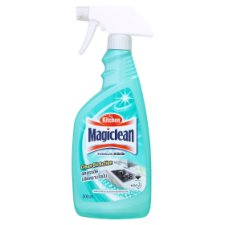Cleaning_solution: (69, 1, 157, 221)
